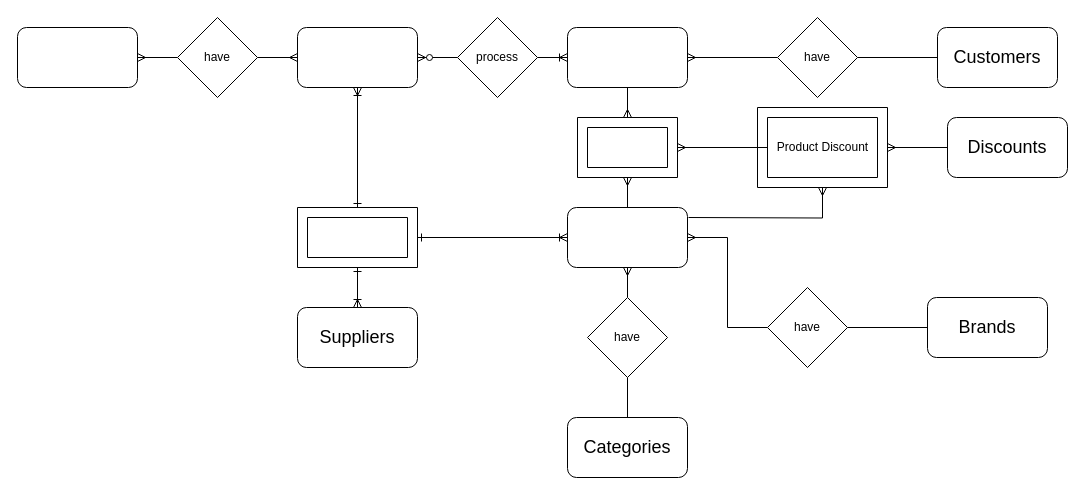
Some shapes in this 1085 by 495 pixel diagram are drawn without their labels. Each missing label, with the centre of its shape:
Employees: the point at 357,57
import_products: the point at 357,237
order item: the point at 627,147
Orders: the point at 627,57
Products: the point at 627,237
Roles: the point at 77,57
